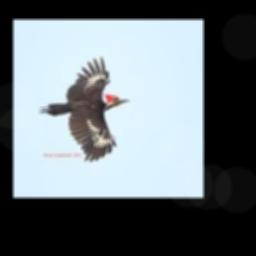Woodpecker: (38, 55, 128, 160)
